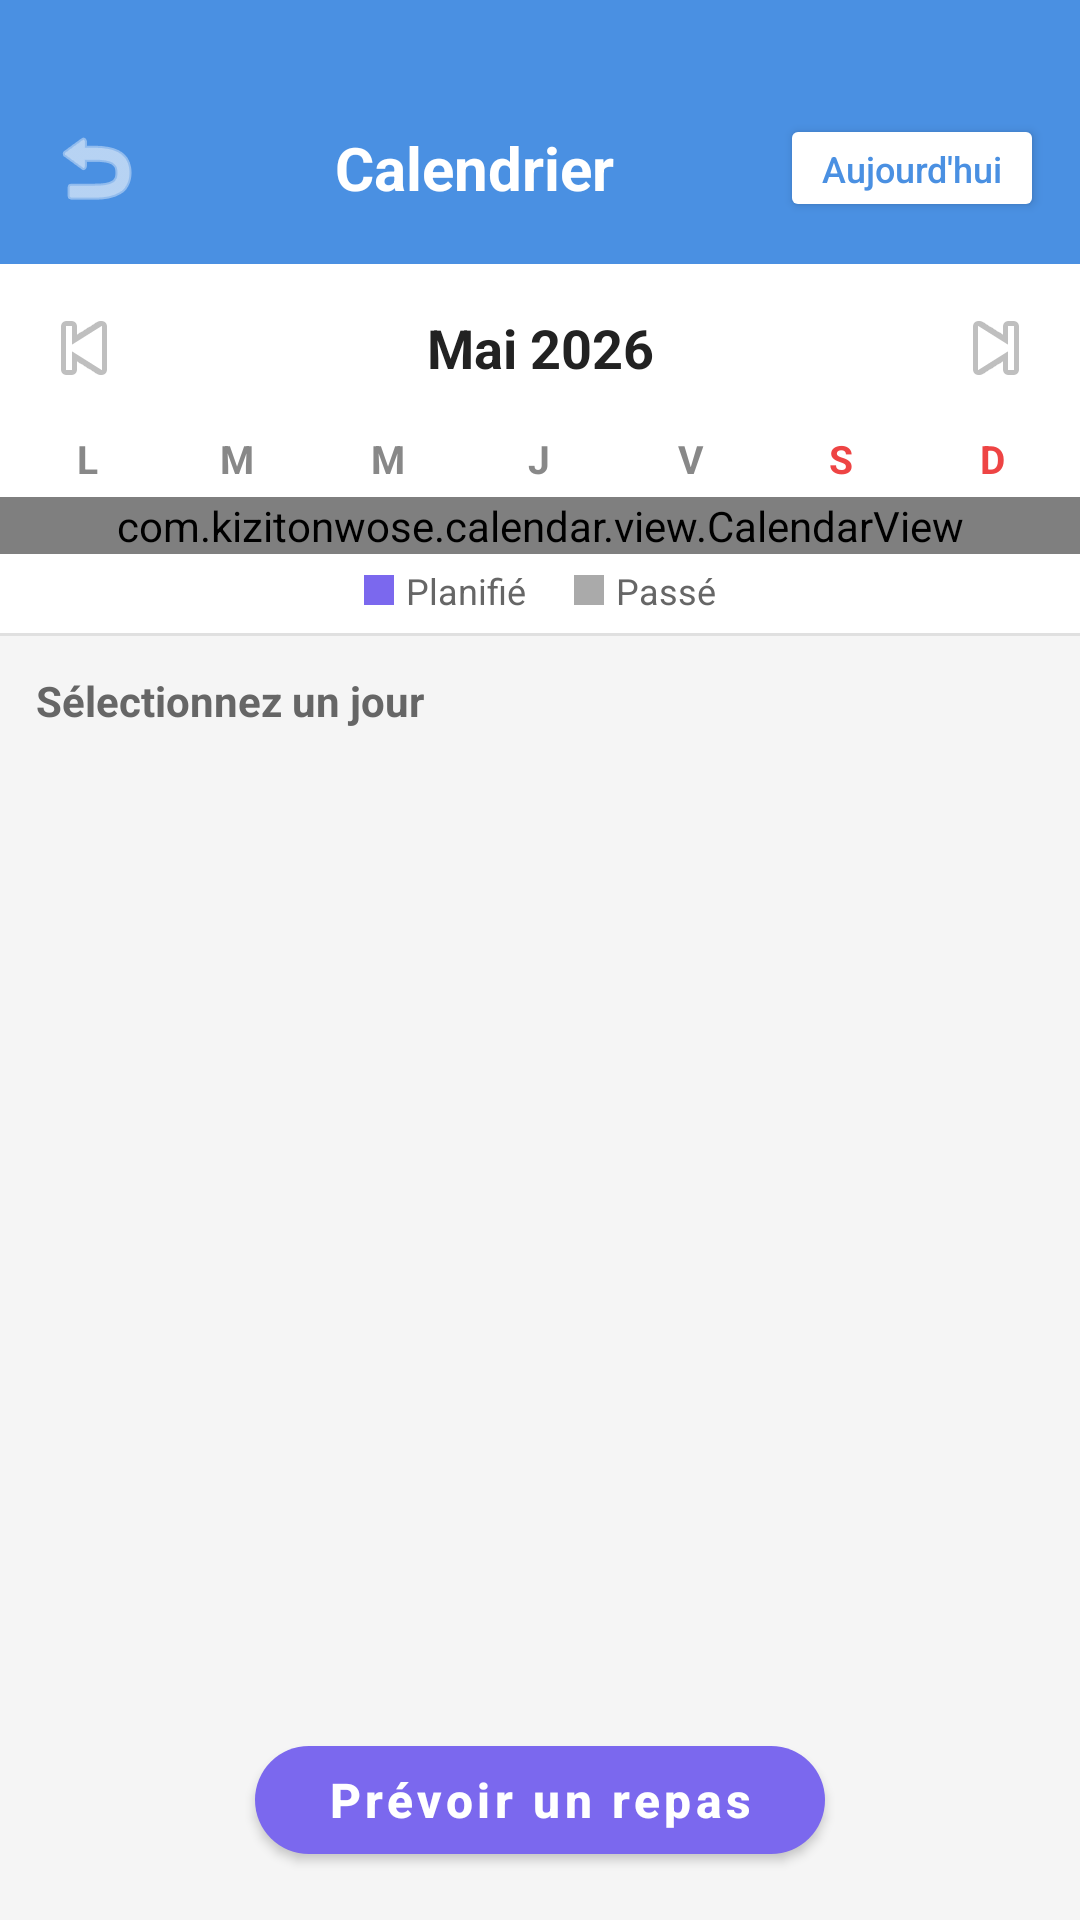

Screen size 1080px×1920px. Icon name, then its center in pixels as (x=x, y=y):
Mois précédent: (x=84, y=348)
Mois suivant: (x=996, y=348)
Retour: (x=97, y=168)
